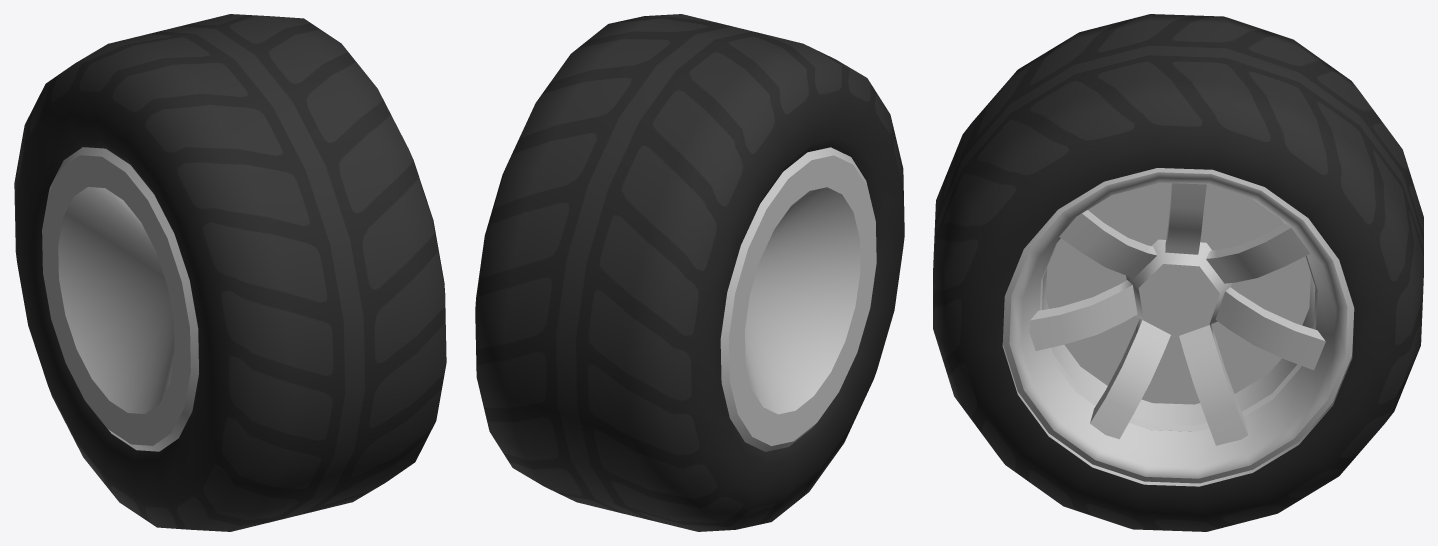
File: Car_13_Wheel_FL.fbx
3 renders of one model, left to right at view 1: azimuth 30°, elevation 25°; view 2: azimuth 150°, elevation 25°; view 3: azimuth 270°, elevation 25°, orthographic.
Parts seen in each view (by area): view 1: Car_13_Wheel_FL; view 2: Car_13_Wheel_FL; view 3: Car_13_Wheel_FL.
Part boxes in pixels (x1,y1,x2,y2): Car_13_Wheel_FL: (14,14,446,531); Car_13_Wheel_FL: (475,14,904,531); Car_13_Wheel_FL: (933,14,1423,531).
Size of the model in its own units: 49.92 by 94.84 by 94.84.
